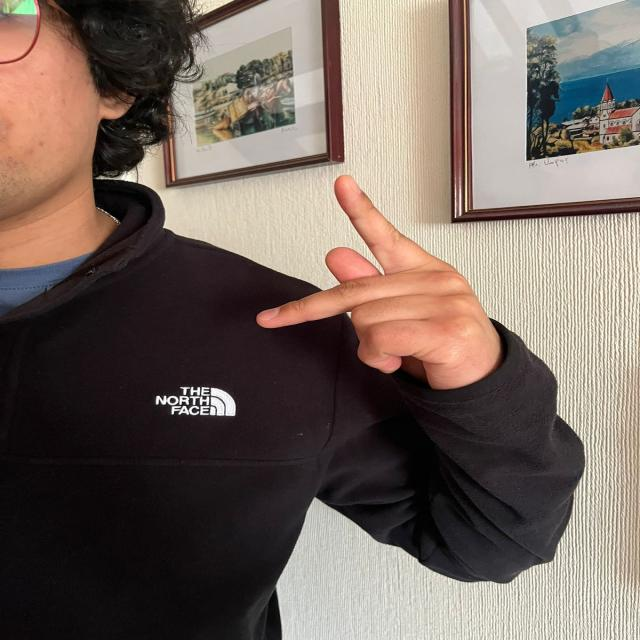K: (248, 170, 511, 401)
